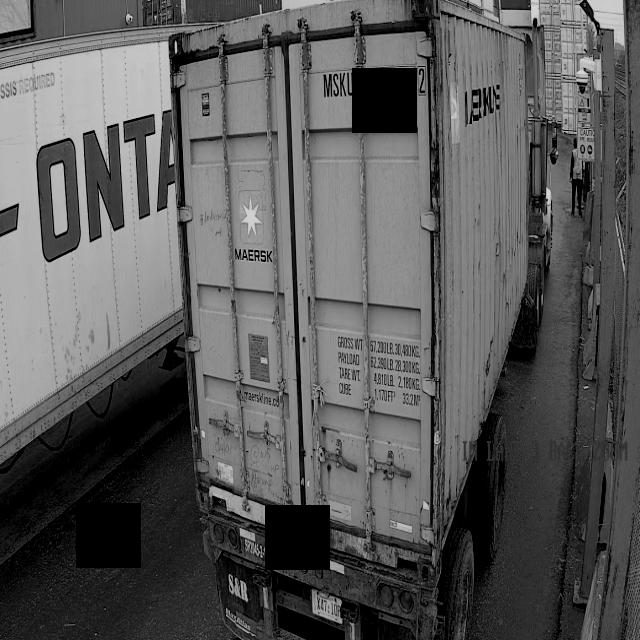container_company_logo: (234, 183, 274, 267)
container_number: (320, 63, 436, 130)
driver: (569, 141, 583, 216)
license_plate: (310, 585, 348, 622)
other_container_info: (332, 331, 425, 419)
truck_with_container: (170, 0, 558, 640), (0, 29, 181, 468)
